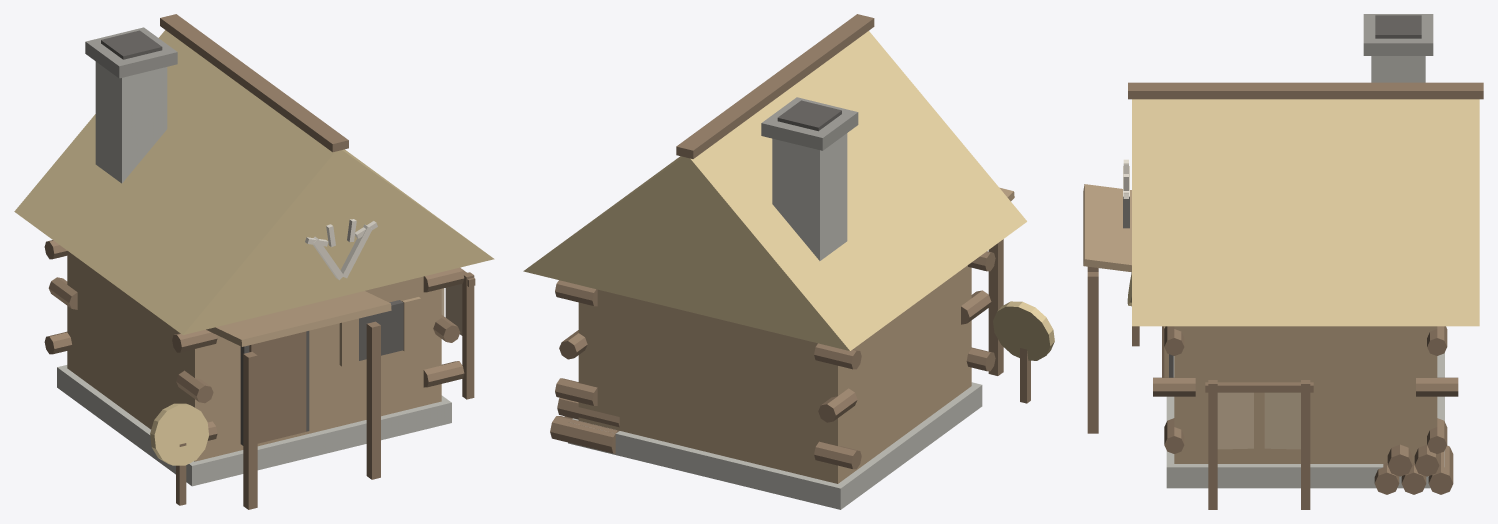
Rendered from era1-hunter-lodge-Dkq4cr4g.glb.
The picture shows the model from 3 angles, left to right: view 1: azimuth 30°, elevation 25°; view 2: azimuth 150°, elevation 25°; view 3: azimuth 270°, elevation 25°; orthographic projection. The views are drawn at different scales.
Visible parts, largest first — view 1: Hunter_Roof, Hunter_Walls, Hunter_Footing, Hunter_Chimney, Hunter_Door, Hunter_Ridge, Hunter_PorchRoof, Hunter_Target, Hunter_PorchPostL, Hunter_PorchPostR, Hunter_ChimneyCap, Hunter_Window (+12 smaller); view 2: Hunter_Roof, Hunter_Walls, Hunter_Footing, Hunter_Chimney, Hunter_Ridge, Hunter_Target, Hunter_ChimneyCap, Hunter_FirewoodA3, Hunter_PorchPostL, Hunter_ChimneySoot, Hunter_LogBL1, Hunter_LogBL3 (+5 smaller); view 3: Hunter_Roof, Hunter_Walls, Hunter_Ridge, Hunter_Footing, Hunter_PorchRoof, Hunter_Hide1, Hunter_Hide2, Hunter_ChimneyCap, Hunter_PorchPostR, Hunter_Chimney, Hunter_RackPostB, Hunter_RackPostF (+14 smaller).
Boxes of the visible parts, x1,y1,x2,y2 form: Hunter_Roof: (14,30,494,334); Hunter_Walls: (67,253,441,461); Hunter_Footing: (57,365,451,486); Hunter_Chimney: (95,61,167,183); Hunter_Door: (249,331,306,443); Hunter_Ridge: (160,14,348,152); Hunter_PorchRoof: (206,291,391,346); Hunter_Target: (150,403,208,465); Hunter_PorchPostL: (243,351,257,509); Hunter_PorchPostR: (366,321,380,479); Hunter_ChimneyCap: (85,27,177,78); Hunter_Window: (359,300,403,360); Hunter_Roof: (523,31,1026,350); Hunter_Walls: (578,265,971,483); Hunter_Footing: (568,382,982,509); Hunter_Chimney: (772,133,847,260); Hunter_Ridge: (676,14,874,158); Hunter_Target: (993,301,1054,360); Hunter_ChimneyCap: (761,97,858,150); Hunter_FirewoodA3: (550,416,619,453); Hunter_PorchPostL: (988,239,1003,375); Hunter_ChimneySoot: (777,100,841,131); Hunter_LogBL1: (814,441,861,469); Hunter_LogBL3: (814,343,861,369); Hunter_Roof: (1132,99,1479,326); Hunter_Walls: (1174,326,1437,463); Hunter_Ridge: (1128,82,1483,99); Hunter_Footing: (1166,352,1444,488); Hunter_PorchRoof: (1083,184,1131,272); Hunter_Hide1: (1217,392,1253,449); Hunter_Hide2: (1264,392,1300,449); Hunter_ChimneyCap: (1363,14,1433,55); Hunter_PorchPostR: (1087,272,1098,433); Hunter_Chimney: (1371,56,1425,82); Hunter_RackPostB: (1301,380,1310,509); Hunter_RackPostF: (1208,380,1217,509).
Bounding box in the file's own units: 5.47 × 5.12 × 5.18.
